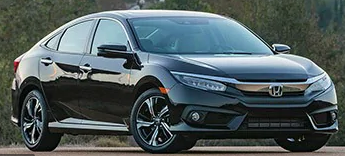car: (7, 9, 339, 154)
